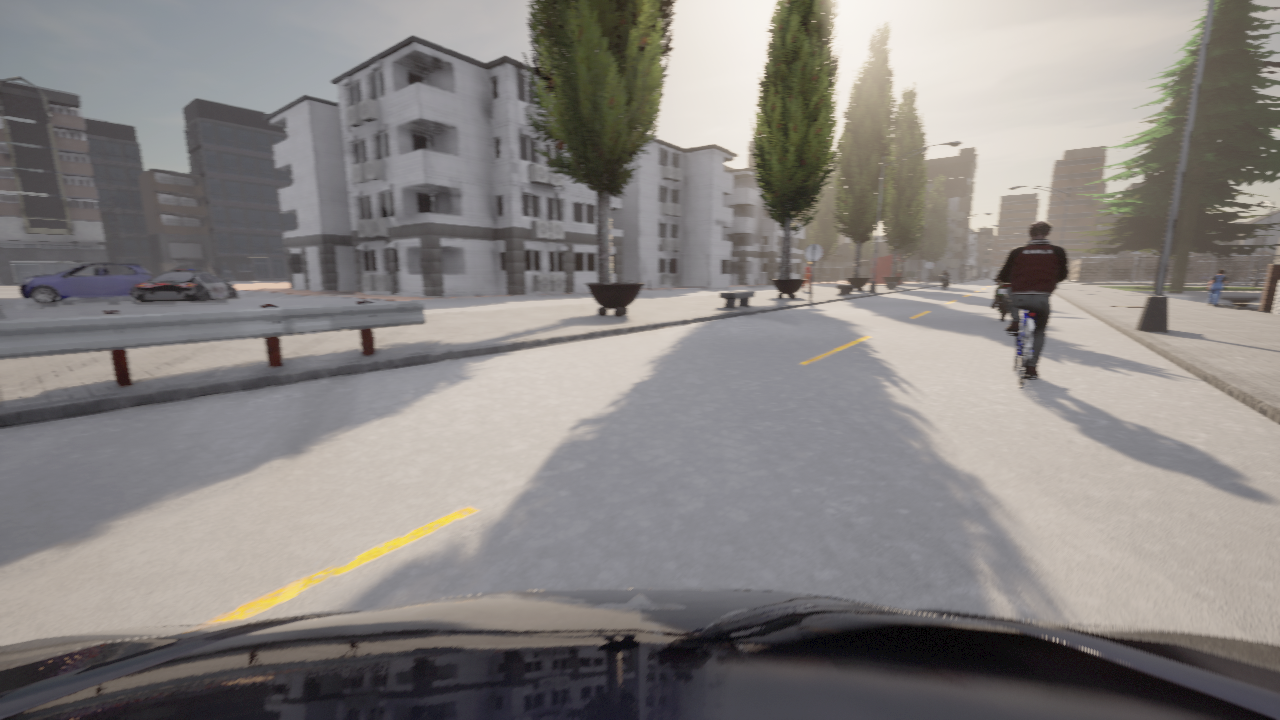cyclist: (0, 588, 1279, 719), (20, 263, 157, 303), (134, 269, 238, 302), (1007, 309, 1037, 388), (991, 278, 1010, 321), (136, 282, 195, 286), (1147, 272, 1171, 280), (1118, 270, 1137, 280), (938, 274, 949, 289), (1194, 273, 1209, 281), (1250, 269, 1267, 274), (1168, 276, 1170, 279)
pedestrian: (1208, 269, 1227, 305), (803, 262, 810, 291)
